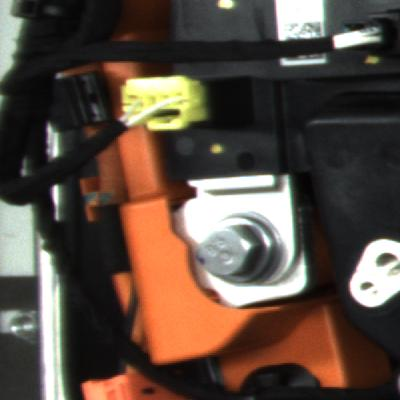nut_b: (189, 209, 294, 301)
